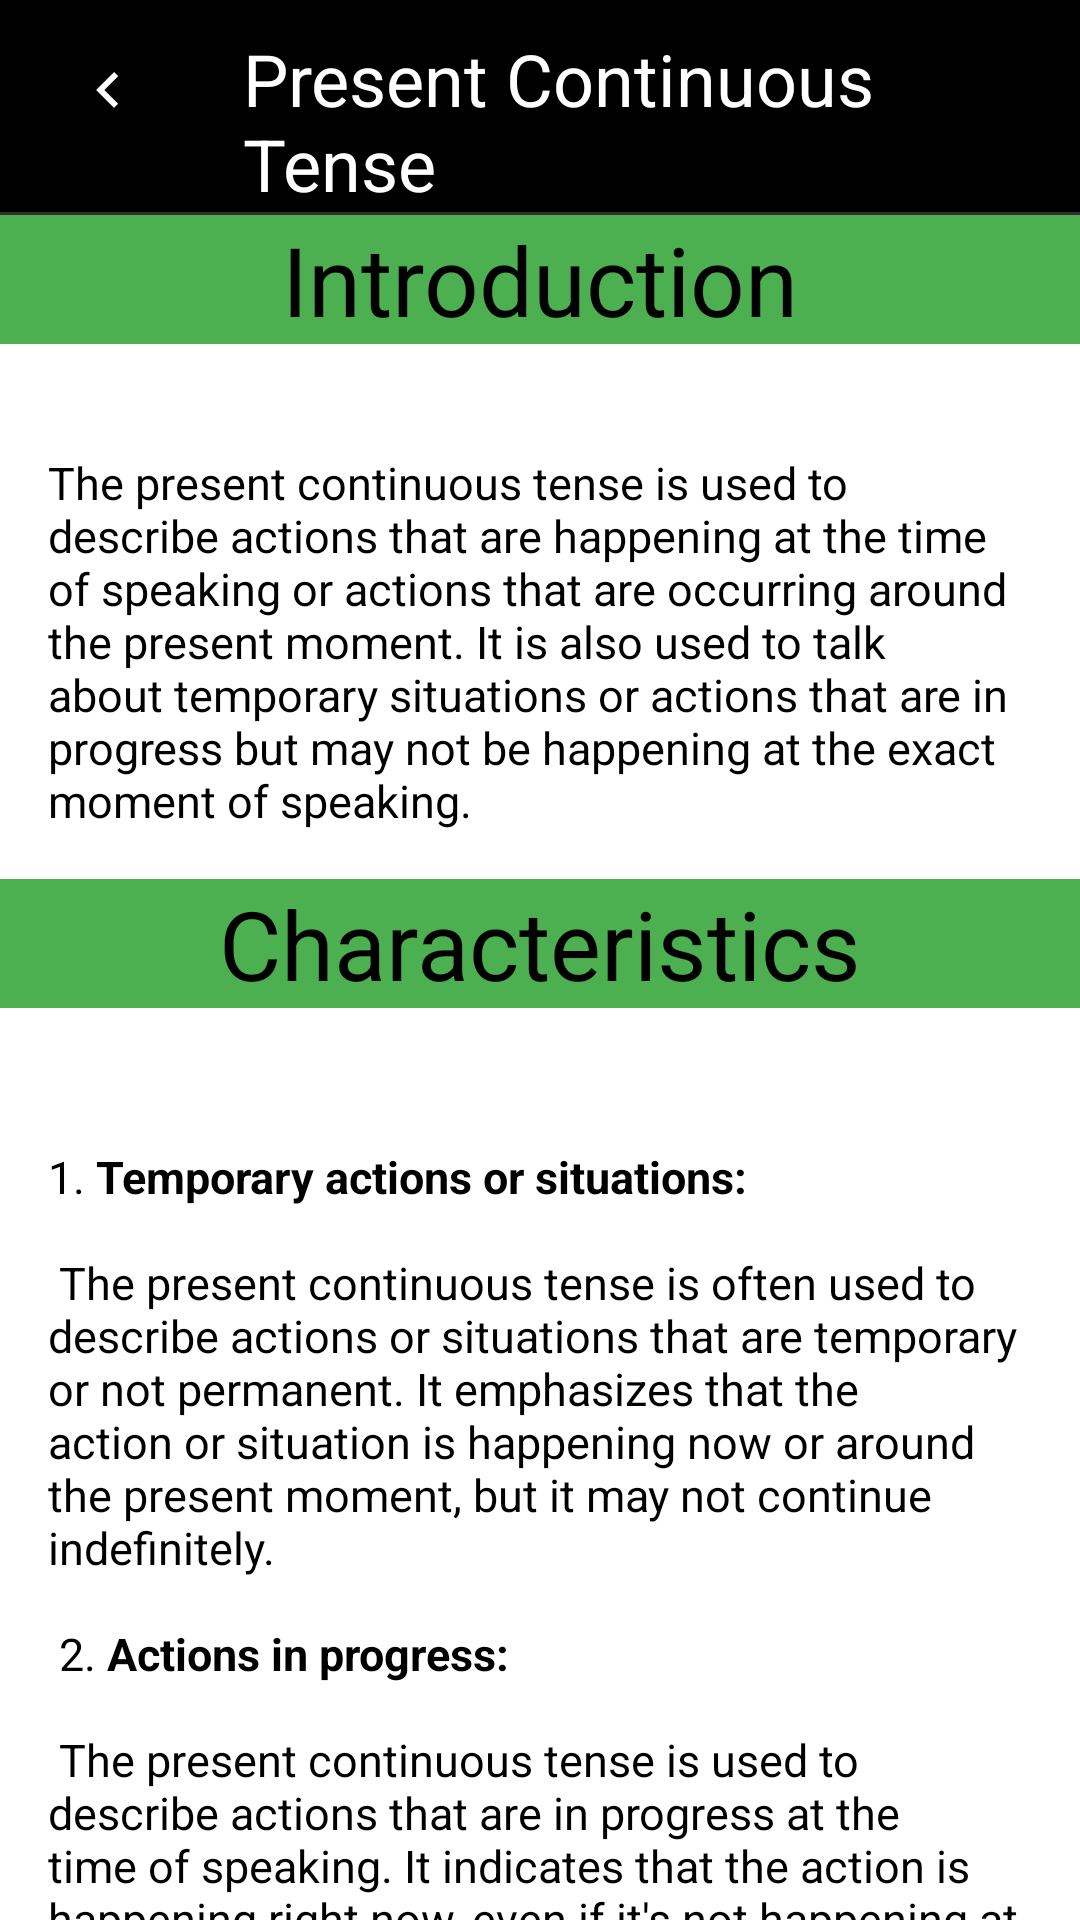

Point at icon controls on the screen. Image size 1080w x 1920h, points as (x,y).
backbt: (107,90)
